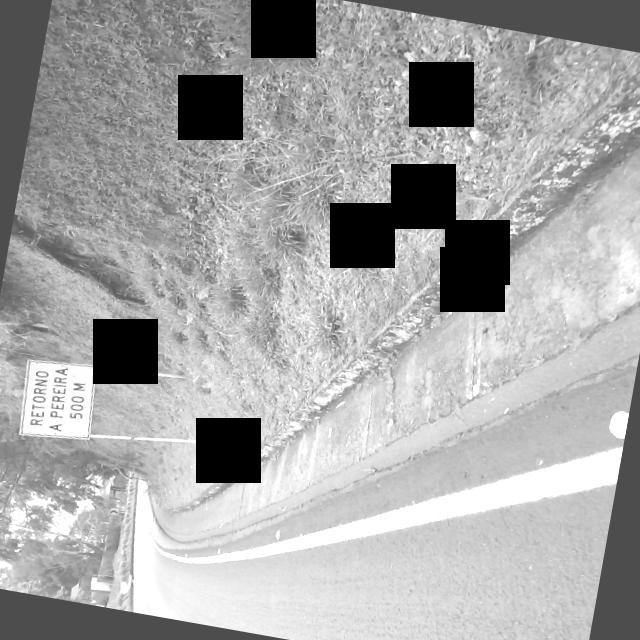DITCH: (129, 0, 640, 614)
